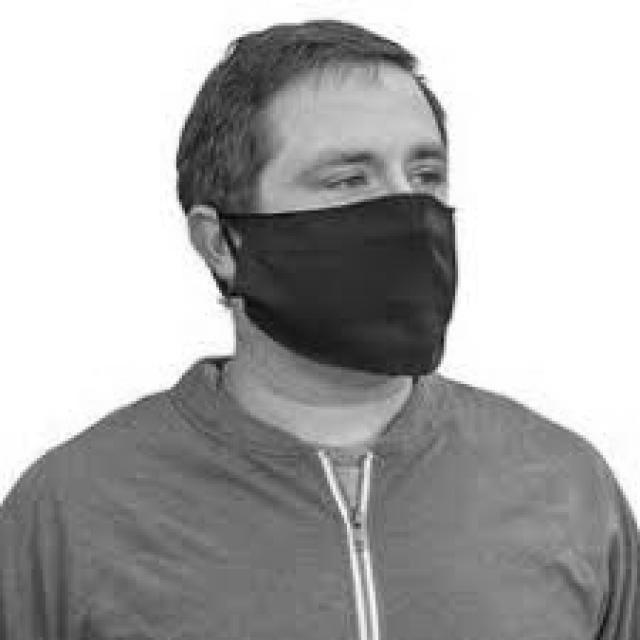fake: (203, 186, 468, 383)
real: (238, 58, 459, 381)
